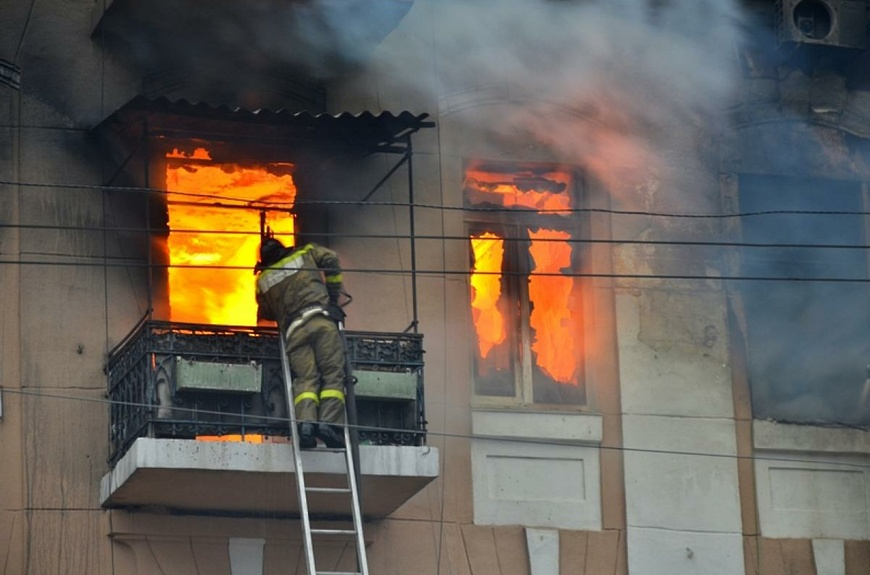fire: (427, 5, 690, 427), (91, 26, 300, 327)
